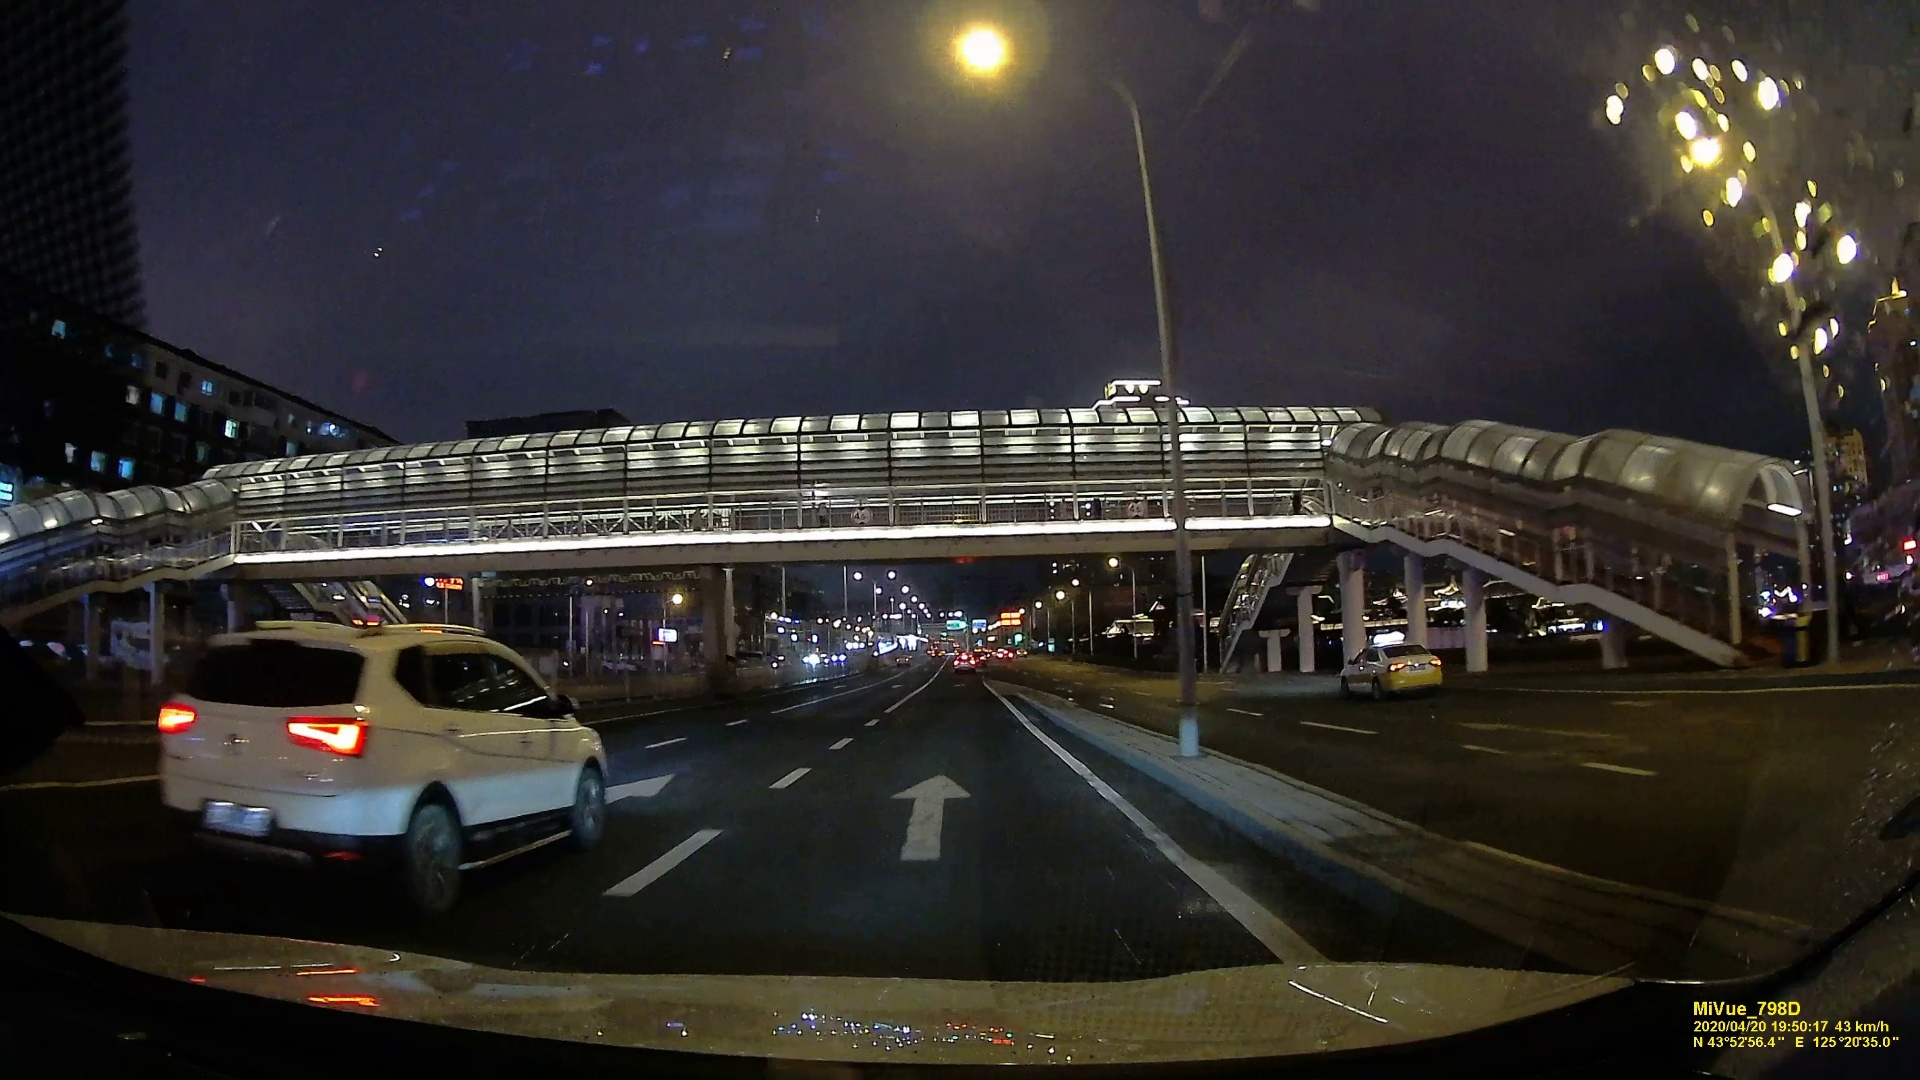traffic_sign: (1125, 497, 1149, 520), (852, 506, 873, 527)
vehicle: (148, 624, 600, 905), (1340, 640, 1447, 702), (953, 651, 975, 671)
